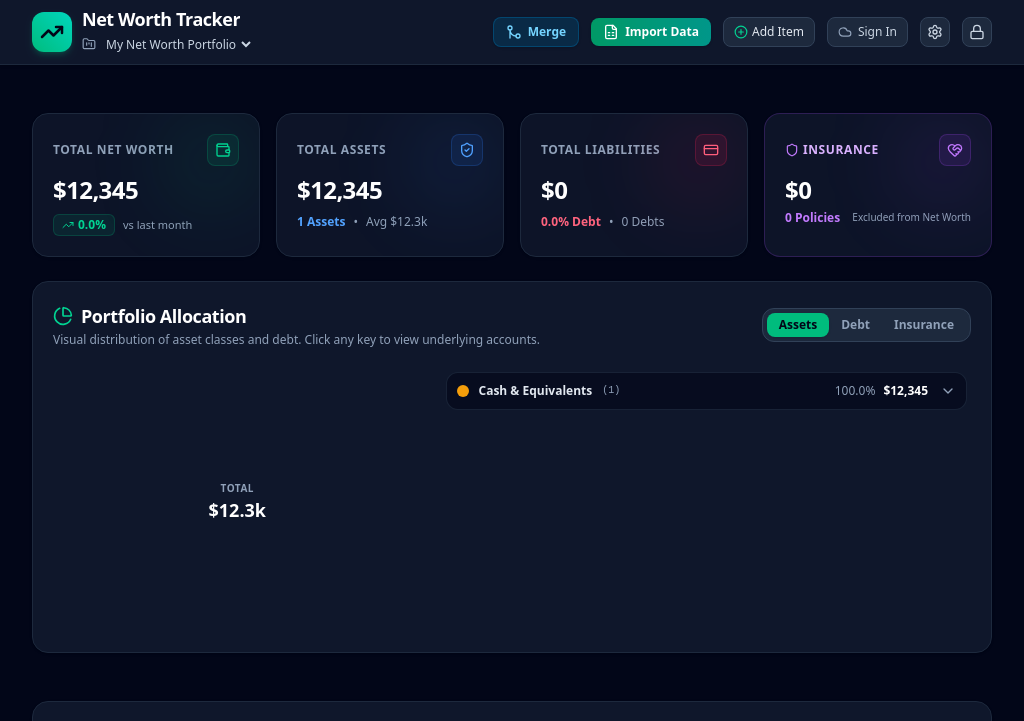
Test: App › can delete an item
The width and height of the screenshot is (1024, 721).
Add item first
Click the button "Add Item" at (769, 32), box left=723, top=17, right=815, bottom=47
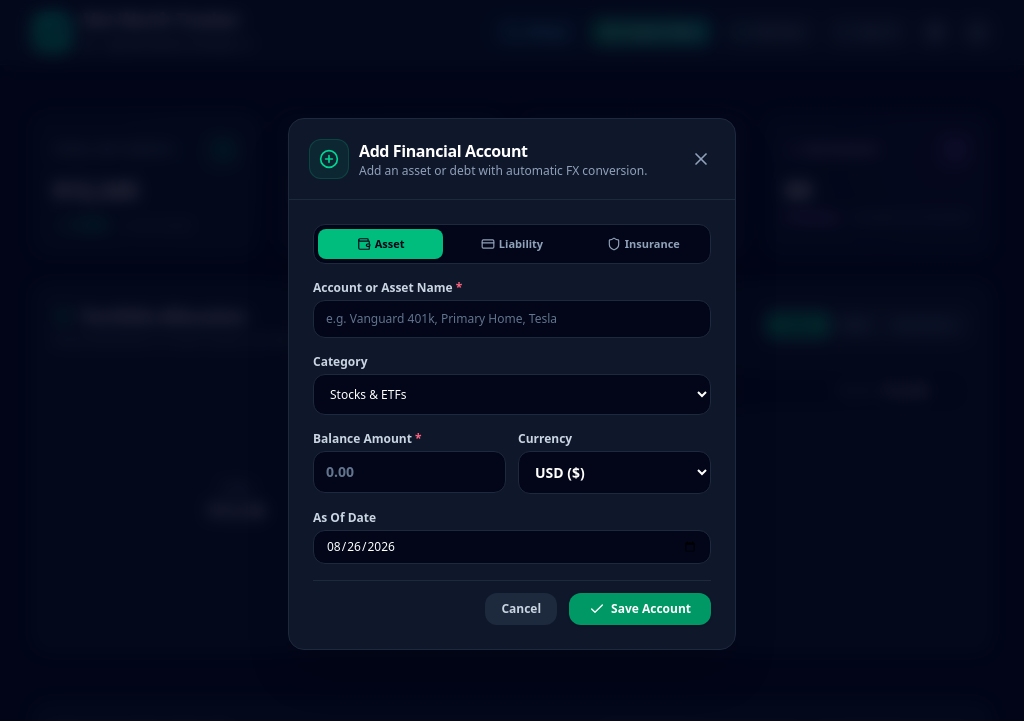
Type "Item To Delete" into the field with placeholder "e.g. Vanguard 401k, Primary Home, Tesla" at (512, 319), box left=313, top=300, right=711, bottom=338
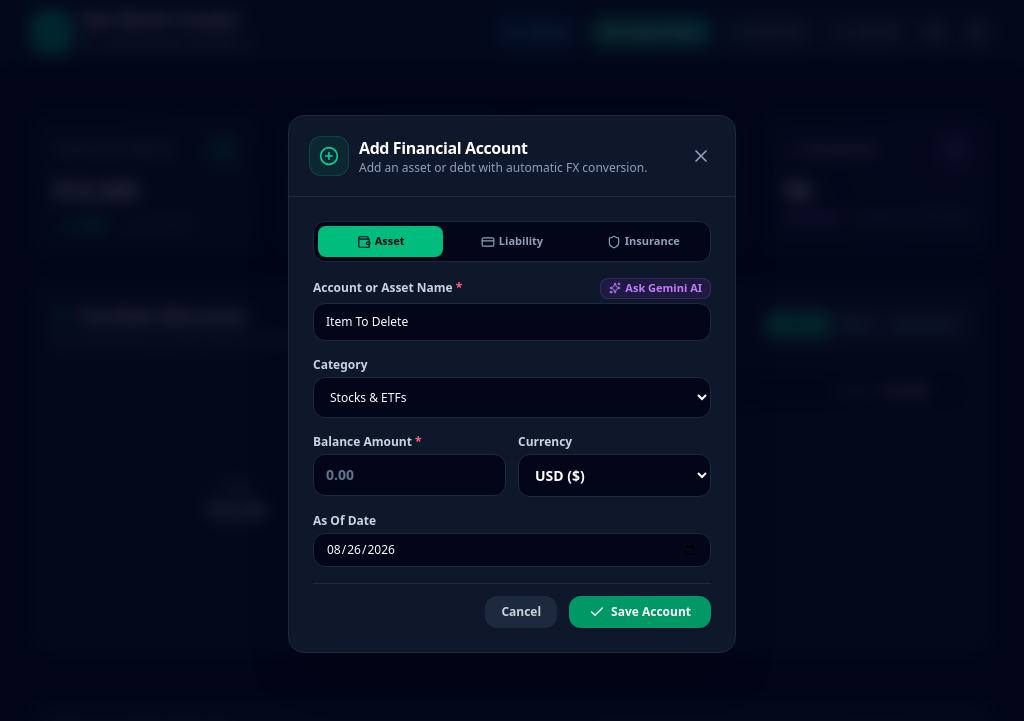
Type "9999" into the number field with placeholder "0.00" at (410, 475), box left=313, top=454, right=506, bottom=496
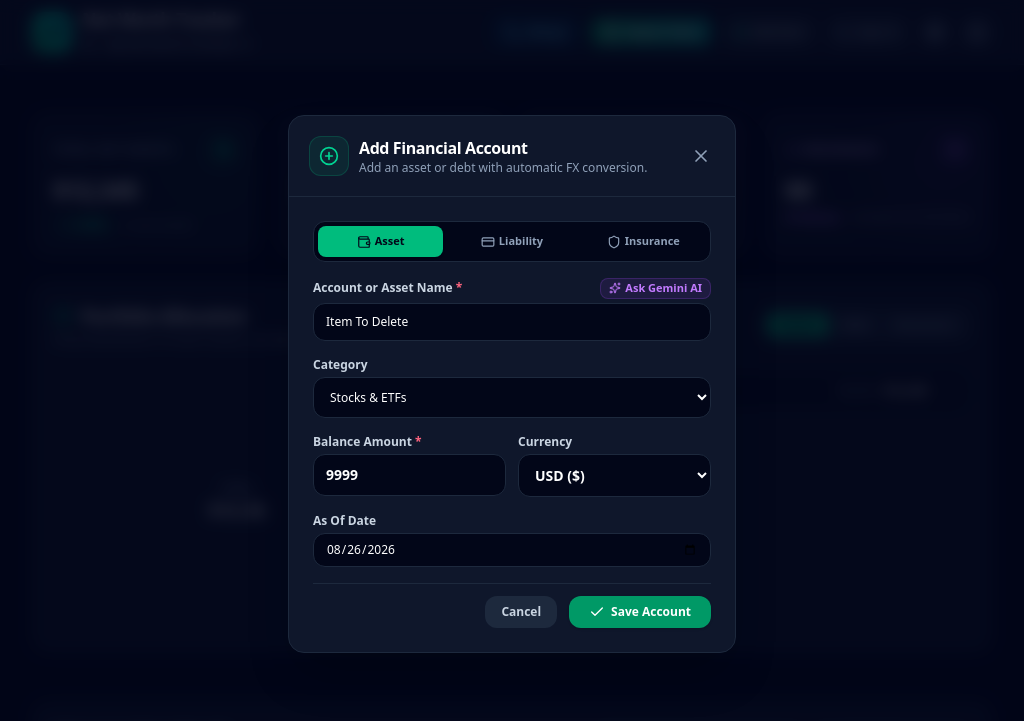
Click the button "Save Account" at (640, 612), box left=569, top=596, right=711, bottom=628
(page scrolled)
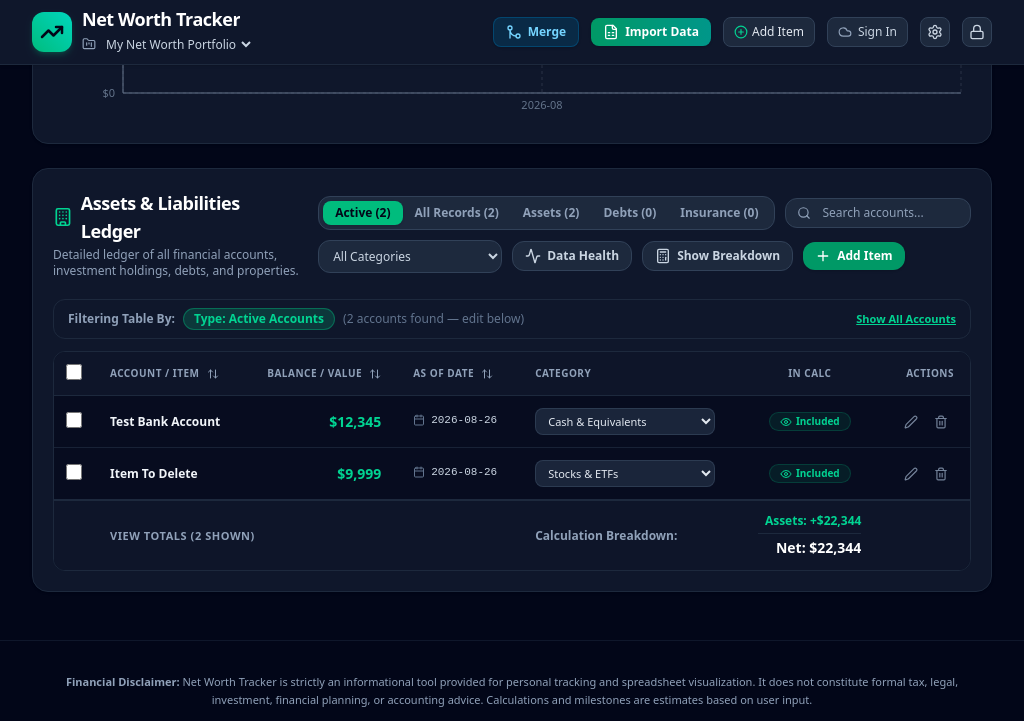
Check: the text "Item To Delete" is shown, box left=110, top=466, right=198, bottom=482
Click the button named "Delete" in the row of "Item To Delete" at (941, 474), box left=928, top=461, right=954, bottom=487
(page scrolled)
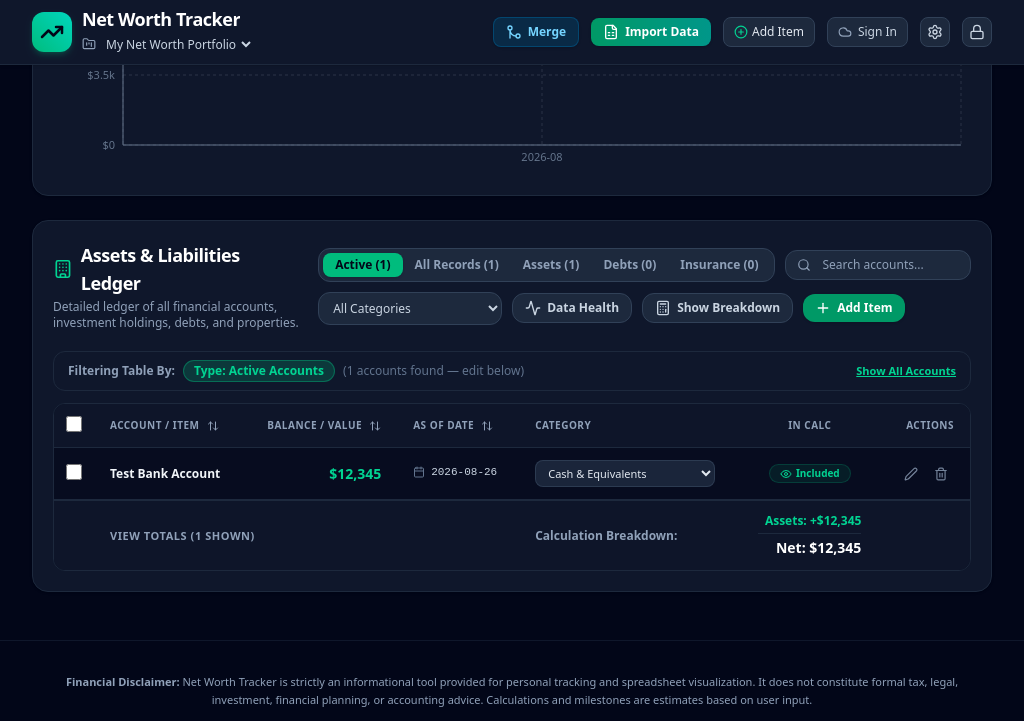
Check: the text "Item To Delete" is gone
